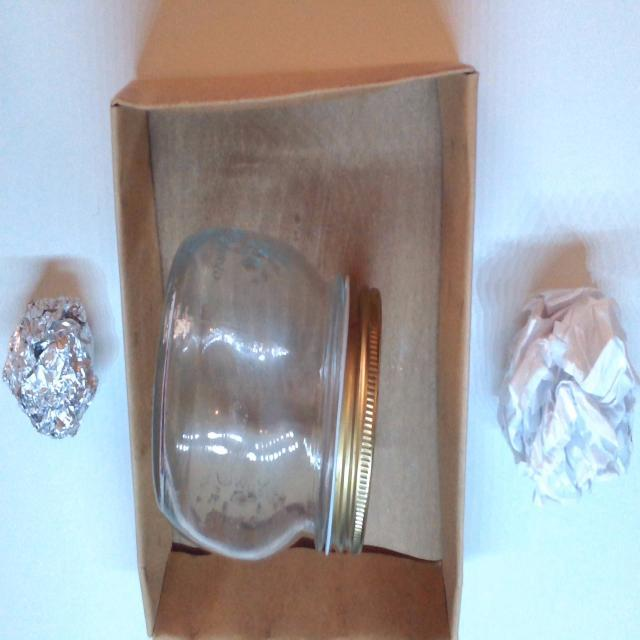Glass: (152, 227, 347, 572)
Paper: (504, 289, 632, 495)
